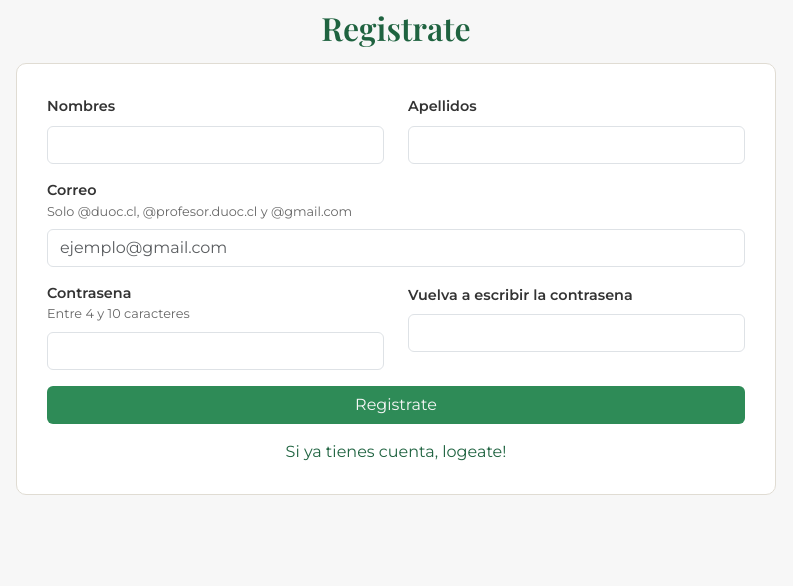
Test: Vista Registro › con datos correctos crea la cuenta y limpia el formulario
Step 1. Type "Ana" into the field labelled "Nombres" → (216, 145), box [47,126,384,164]
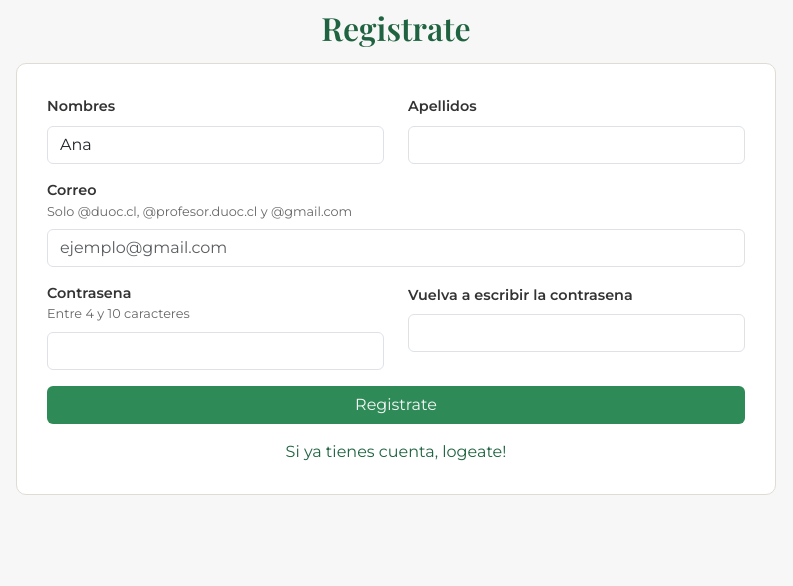
Step 2. Type "Perez Soto" into the field labelled "Apellidos" → (576, 145), box [408,126,745,164]
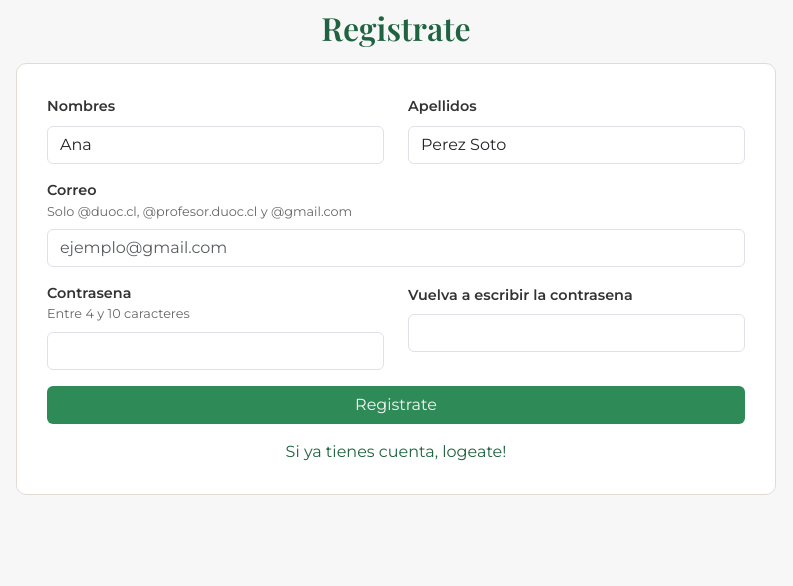
Step 3. Type "ana@gmail.com" into the field labelled "Correo Solo @duoc.cl, @profesor.duoc.cl y @gmail.com" → (396, 248), box [47,229,745,267]
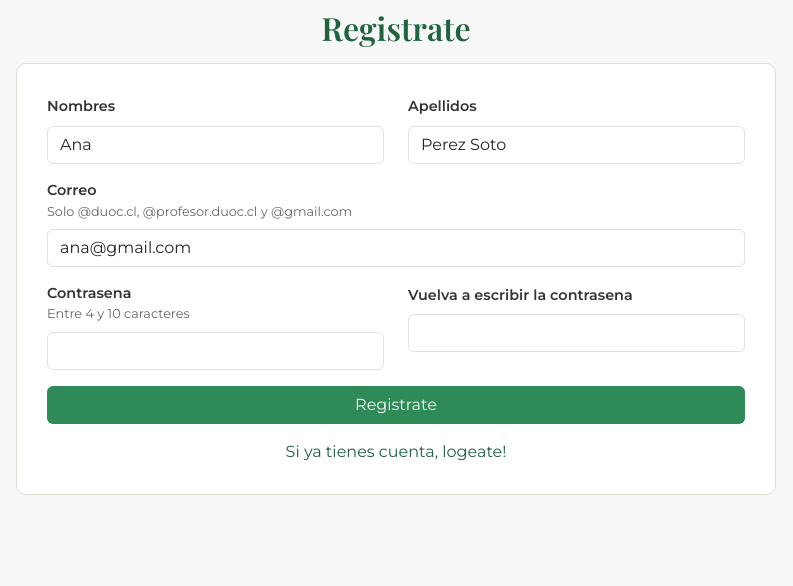
Step 4. Type "clave1" into the password field labelled "Contrasena Entre 4 y 10 caracteres" → (216, 351), box [47,332,384,370]
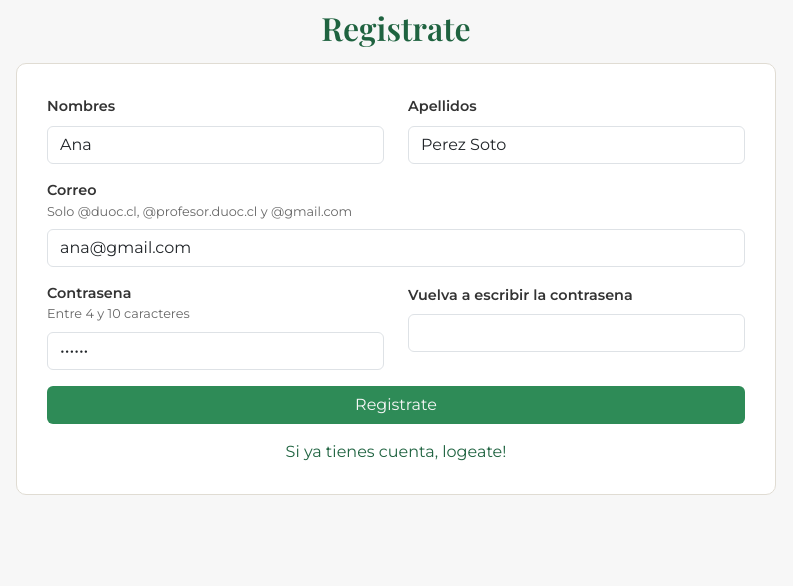
Step 5. Type "clave1" into the password field labelled "Vuelva a escribir la contrasena" → (576, 333), box [408,314,745,352]
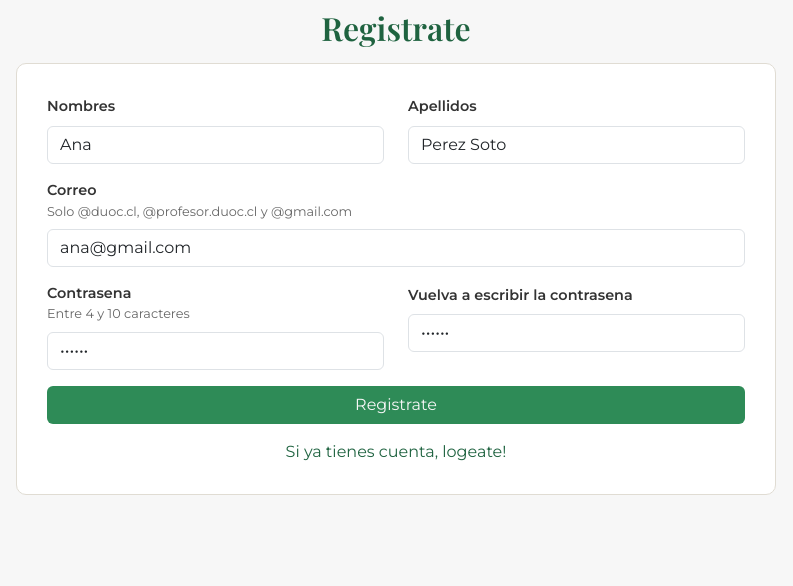
Step 6. Click the button "Registrate" → (396, 405), box [47,386,745,424]
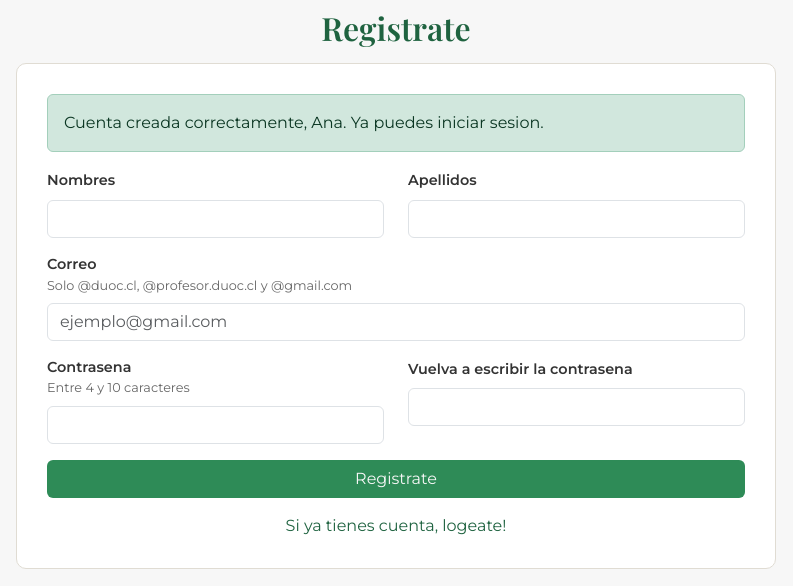
Now the text "Cuenta creada correctamente, Ana. Ya puedes iniciar sesion." is shown, box [47,94,745,152]
Now the field labelled "Nombres" is empty, box [47,200,384,238]
